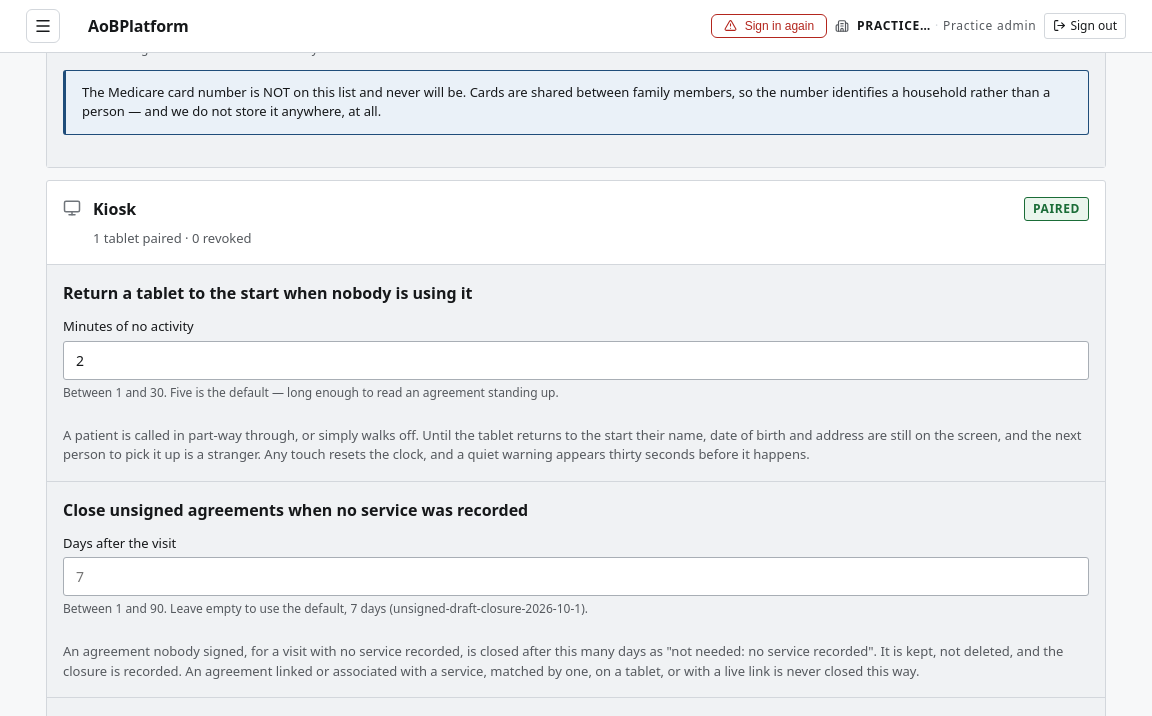
Test: the kiosk inactivity reset field › will not save a number outside the range the server would refuse
This screenshot has width=1152, height=716.
(page scrolled)
Replace the text in the number field with test id "channels-idle-minutes" with "0" at (576, 360), box [63,340,1089,380]
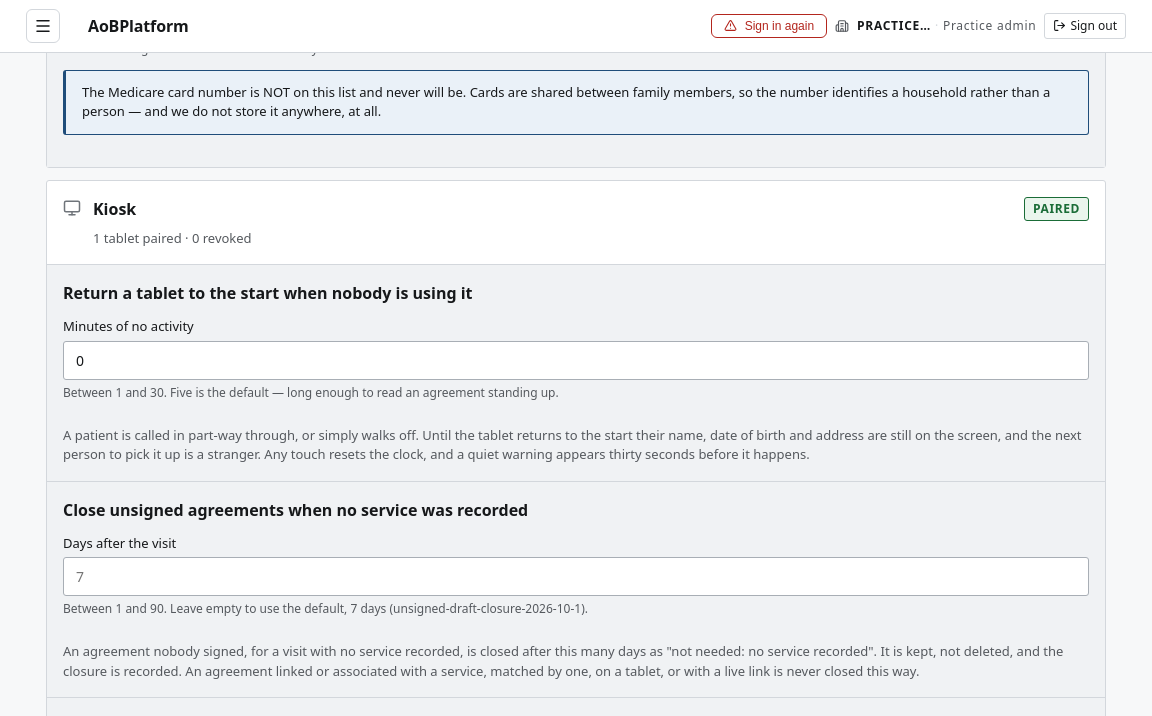
Replace the text in the number field with test id "channels-idle-minutes" with "31" at (576, 360), box [63,340,1089,380]
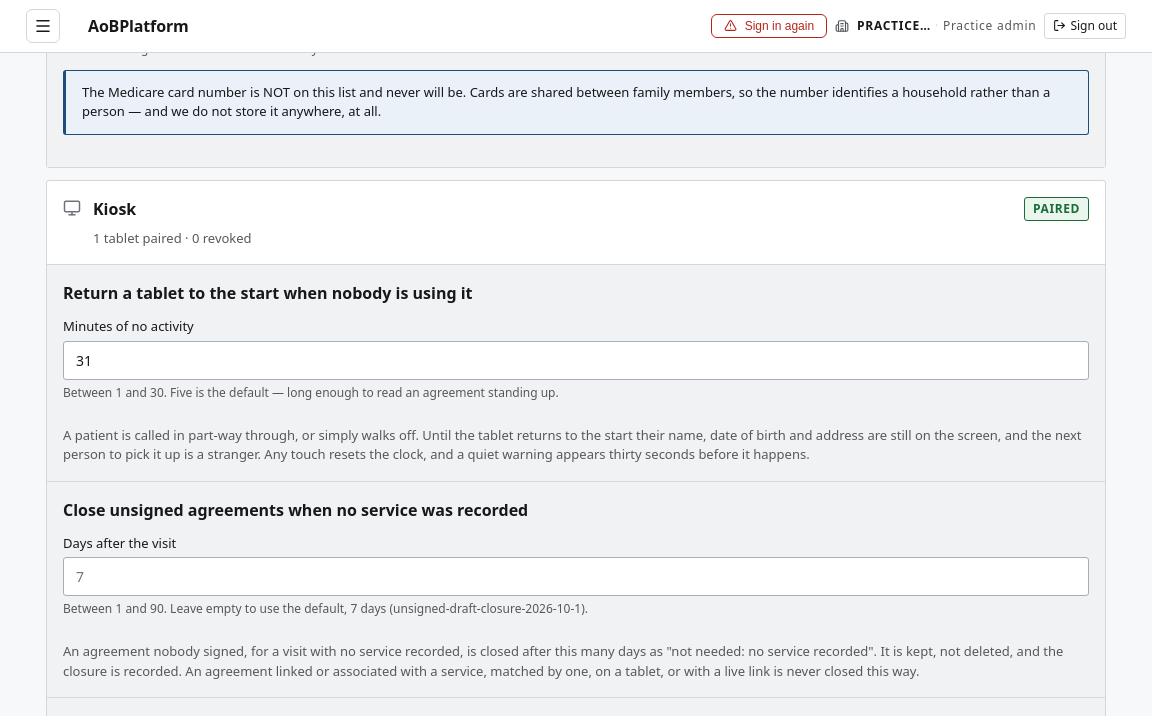
Clear the number field with test id "channels-idle-minutes" at (576, 360), box [63,340,1089,380]
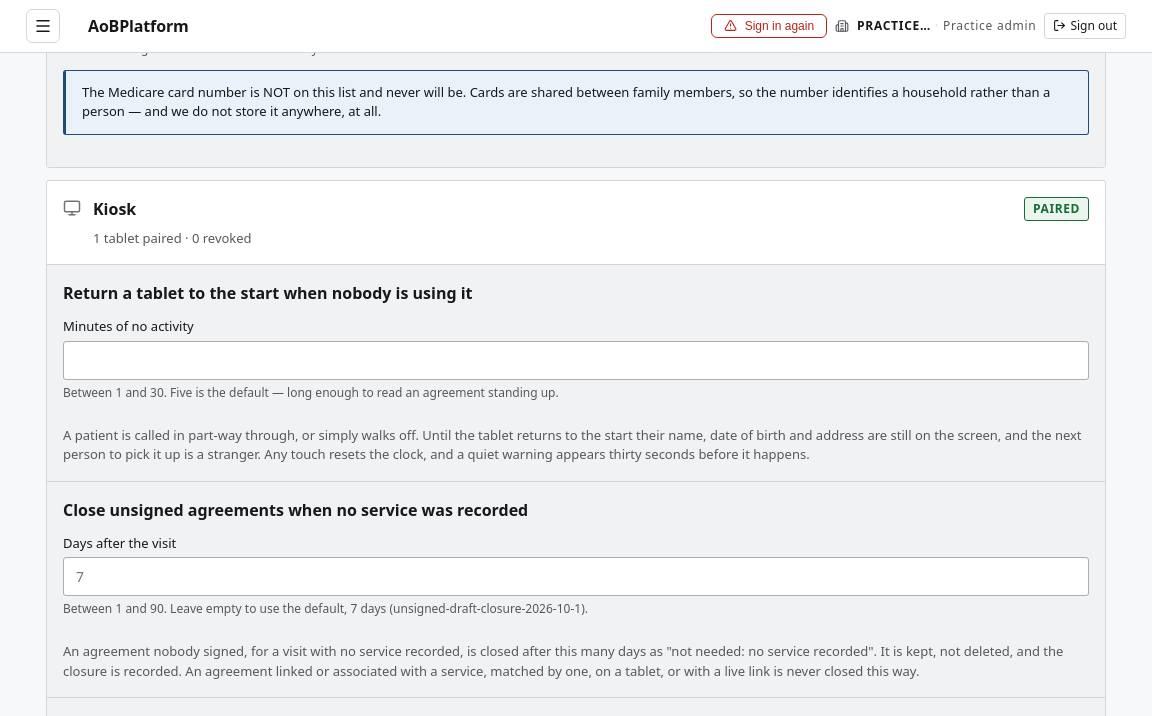
Type "2.5" into the number field with test id "channels-idle-minutes" at (576, 360), box [63,340,1089,380]
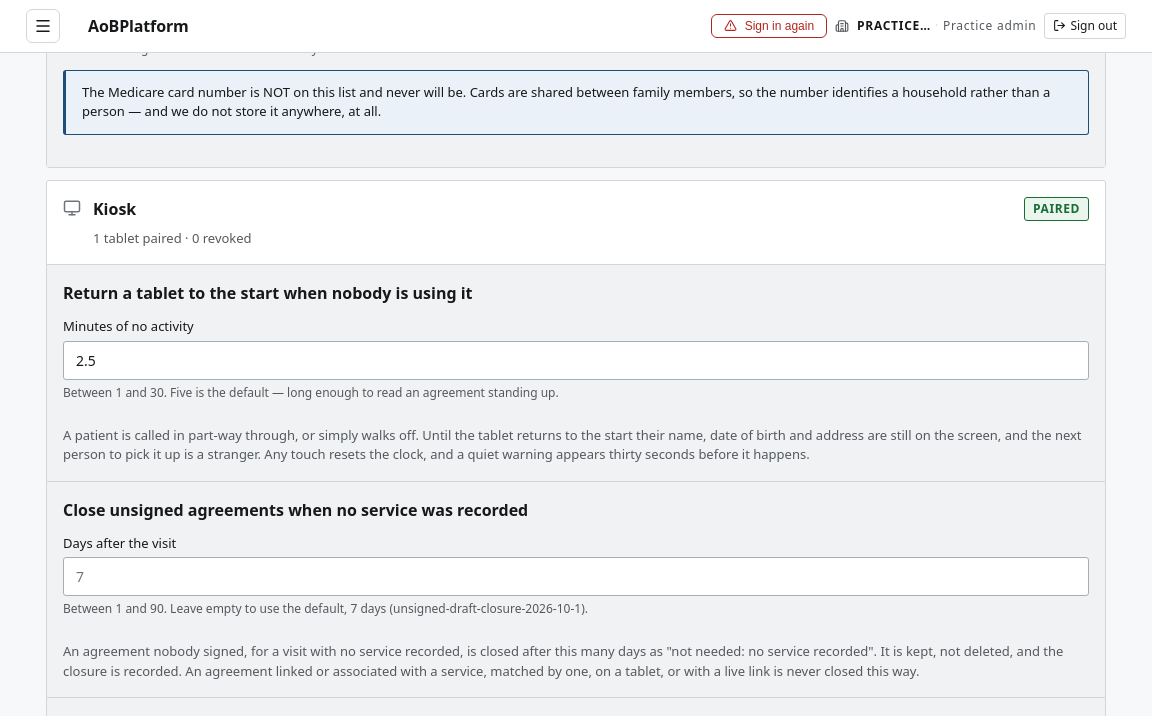
Replace the text in the number field with test id "channels-idle-minutes" with "30" at (576, 360), box [63,340,1089,380]
(page scrolled)
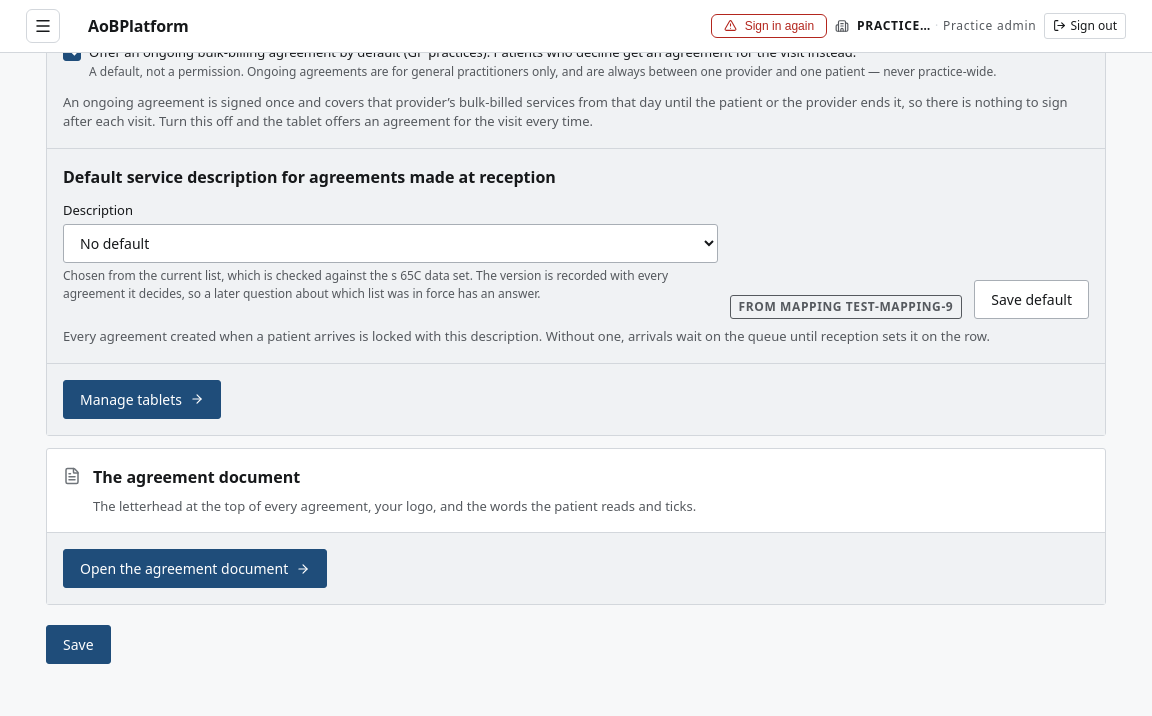
Result: the button with test id "channels-save" is enabled at [46,625,111,664]
